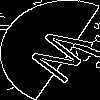W: (25, 25, 100, 89)
